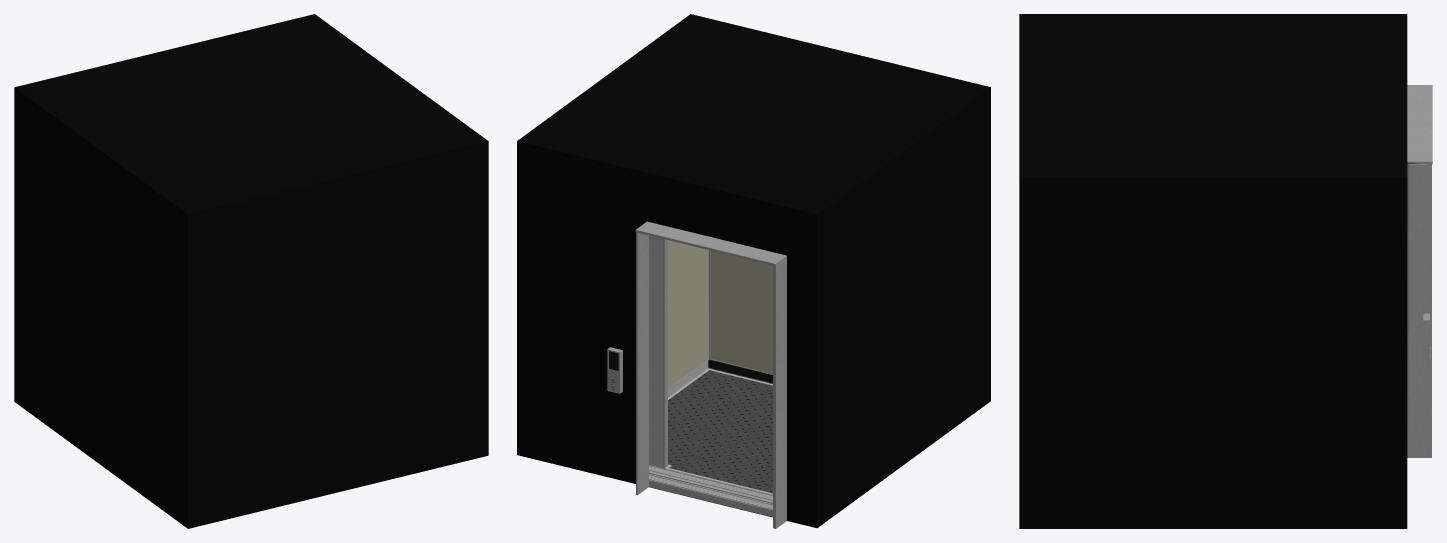
Rendered from ELEVATOR.glb.
The picture shows the model from 3 angles, left to right: view 1: azimuth 30°, elevation 25°; view 2: azimuth 150°, elevation 25°; view 3: azimuth 270°, elevation 25°; orthographic projection. The views are drawn at different scales.
Visible parts, largest first — view 1: elevator_Shaft; view 2: elevator_Shaft, elevator_car_part_7, floor_door_frame_part_1, elevator_car_wall_par_2, elevator_car_wall_par_3, elevator_car_part_9, floor_door_track_platform, elevator_door_track_platform, elevator_door_frame; view 3: elevator_Shaft, floor_door_frame_part_1.
Part boxes in pixels (box(x1,y1,x2,y2)): elevator_Shaft: box(14, 14, 488, 528); elevator_Shaft: box(517, 14, 990, 528); elevator_car_part_7: box(668, 367, 772, 493); floor_door_frame_part_1: box(635, 221, 786, 528); elevator_car_wall_par_2: box(710, 250, 772, 373); elevator_car_wall_par_3: box(668, 240, 708, 388); elevator_car_part_9: box(649, 235, 662, 467); floor_door_track_platform: box(649, 474, 772, 516); elevator_door_track_platform: box(649, 465, 772, 503); elevator_door_frame: box(663, 239, 667, 468); elevator_Shaft: box(1019, 14, 1407, 528); floor_door_frame_part_1: box(1407, 85, 1432, 457).
Size of the model in its own units: 2.27 by 2.27 by 2.42.
Materials: 47 (14 with a texture image).
